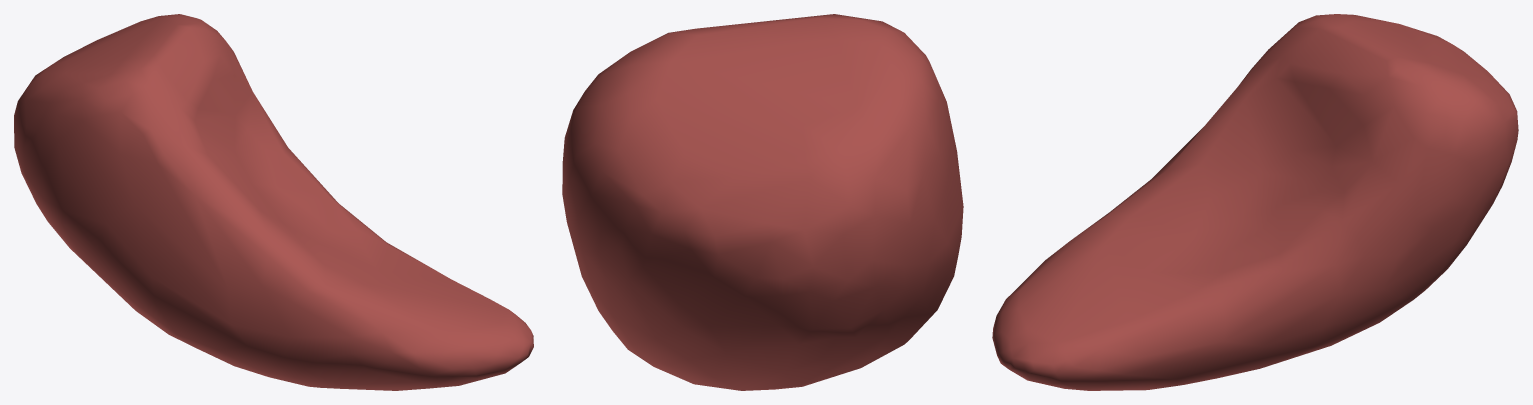
The model's file is FMA73304.glb.
The picture shows the model from 3 angles, left to right: view 1: azimuth 30°, elevation 25°; view 2: azimuth 150°, elevation 25°; view 3: azimuth 270°, elevation 25°; orthographic projection. The views are drawn at different scales.
Visible parts, largest first — view 1: FMA73304; view 2: FMA73304; view 3: FMA73304.
Part boxes in pixels (bbox=[...]): FMA73304: bbox=[14, 14, 533, 390]; FMA73304: bbox=[562, 14, 963, 390]; FMA73304: bbox=[992, 14, 1518, 390].
Bounding box in the file's own units: 0.00806 × 0.00676 × 0.011.
